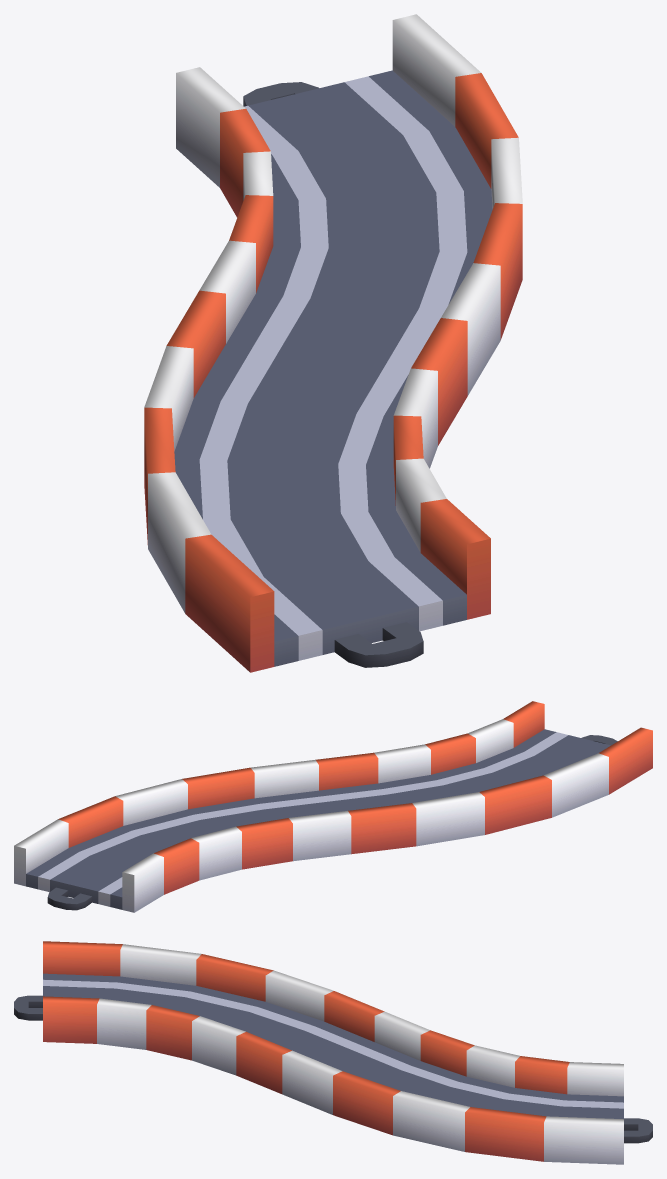
Rendered from kenney-toy-car-track-road-narrow-curve.glb.
3 renders of one model, top to bottom at view 1: azimuth 30°, elevation 25°; view 2: azimuth 150°, elevation 25°; view 3: azimuth 270°, elevation 25°, orthographic. The views are drawn at different scales.
Parts seen in each view (by area): view 1: track-road-narrow-curve; view 2: track-road-narrow-curve; view 3: track-road-narrow-curve.
Part boxes in pixels (x1,y1,x2,y2): track-road-narrow-curve: (144,14,522,672); track-road-narrow-curve: (14,701,652,912); track-road-narrow-curve: (14,941,652,1164).
Size of the model in its own units: 3 by 0.2997 by 4.4.
1 material, 1 textured.
